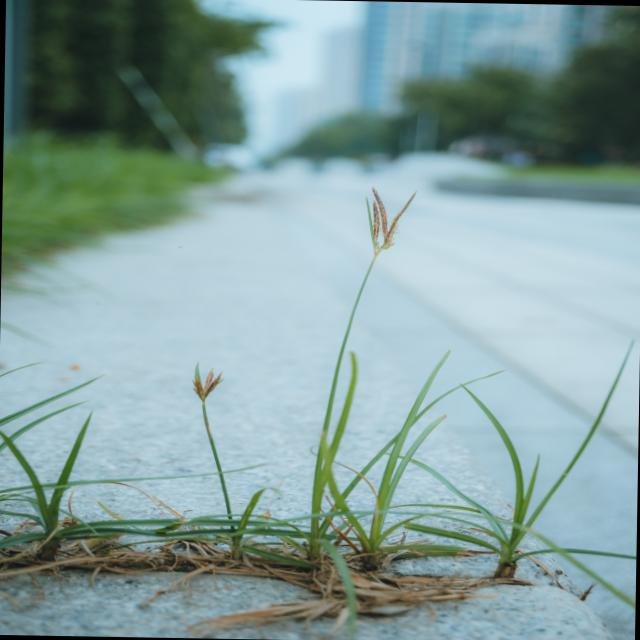cyperus: (354, 184, 426, 256), (185, 357, 229, 408)
